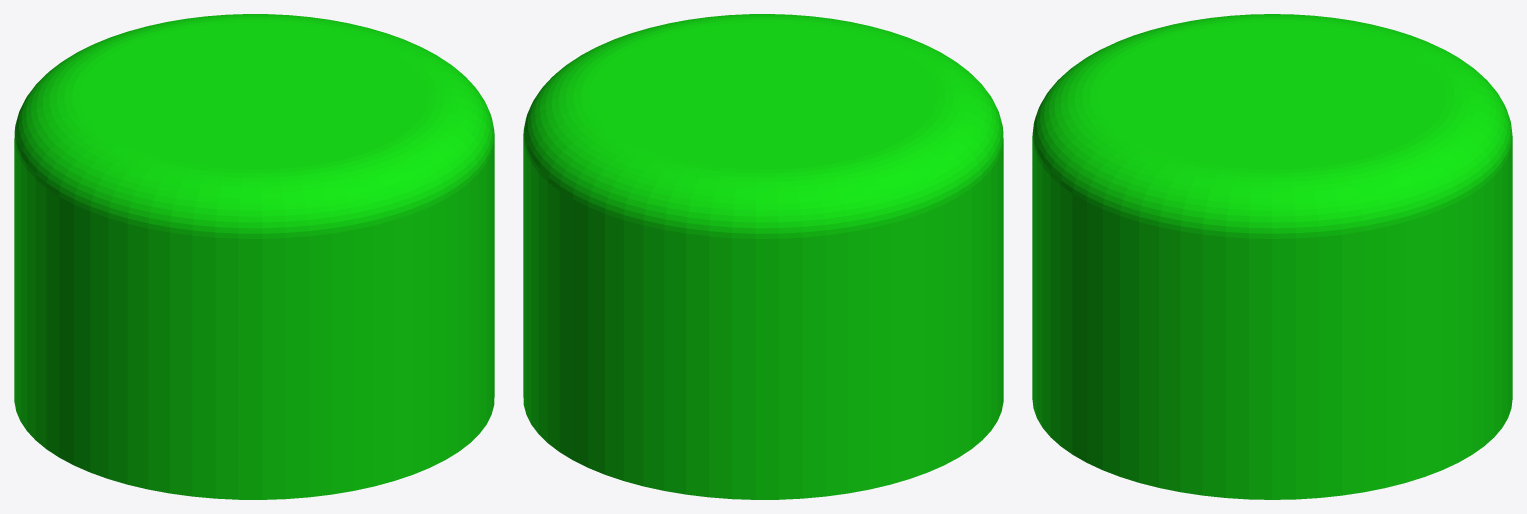
The model's file is ButtonRound.fbx.
3 views of the same model, side by side, from view 1: azimuth 30°, elevation 25°; view 2: azimuth 150°, elevation 25°; view 3: azimuth 270°, elevation 25° (orthographic).
Parts seen in each view (by area): view 1: ButtonRound; view 2: ButtonRound; view 3: ButtonRound.
Part boxes in pixels (x1,y1,x2,y2): ButtonRound: (14, 14, 494, 499); ButtonRound: (523, 14, 1003, 499); ButtonRound: (1032, 14, 1512, 499).
Size of the model in its own units: 2.16 by 2.16 by 1.5.
